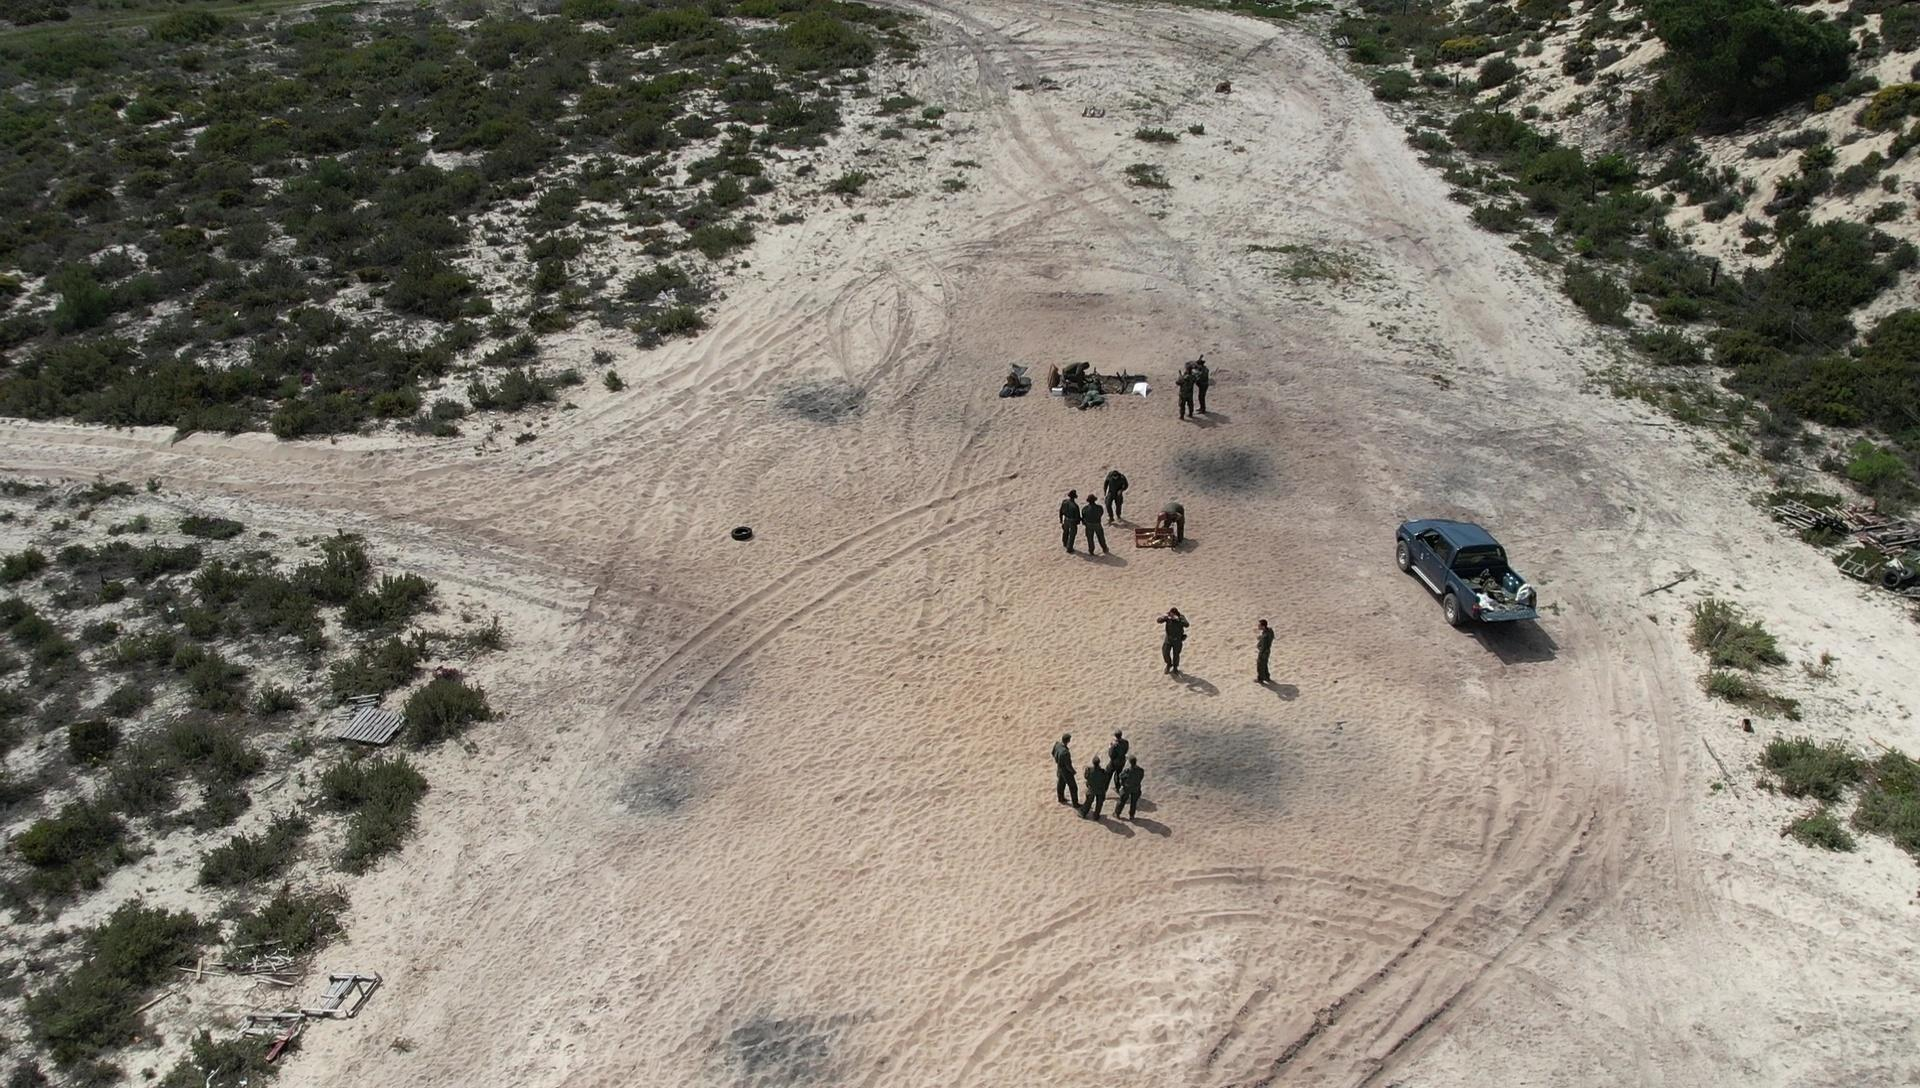Soldier: (1046, 725, 1083, 808), (1153, 601, 1189, 680), (1112, 745, 1149, 819), (1077, 745, 1110, 826), (1146, 492, 1189, 553), (1080, 484, 1112, 564), (1247, 613, 1276, 692), (1056, 481, 1084, 560), (1192, 351, 1221, 422), (1102, 466, 1133, 531), (1079, 369, 1110, 417), (1176, 361, 1199, 423), (1059, 353, 1095, 392), (1108, 721, 1130, 769)
